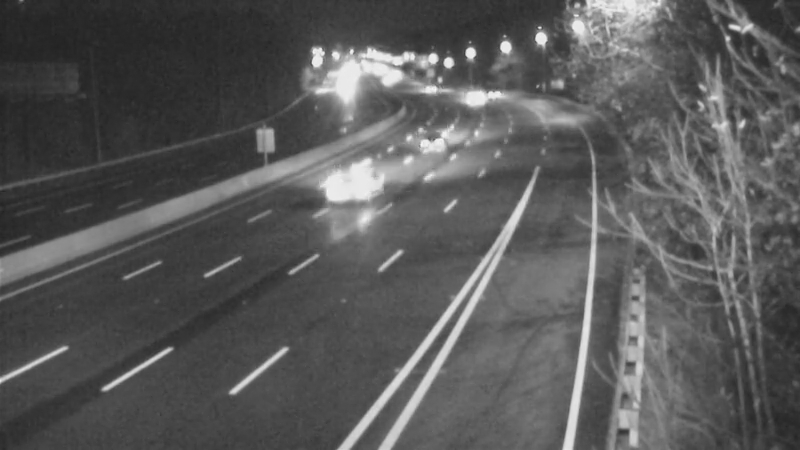vehicle: (319, 148, 399, 228), (406, 62, 456, 112), (468, 70, 518, 120), (439, 72, 489, 122), (413, 113, 463, 163)
